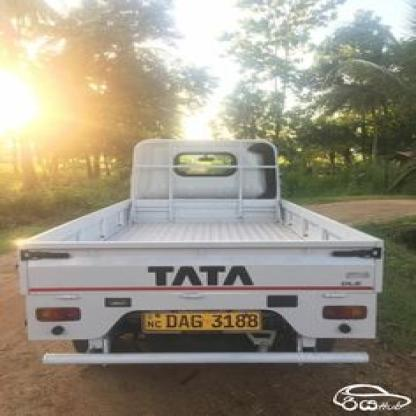Lorry back: (18, 134, 388, 371)
number plate: (142, 308, 262, 331)
